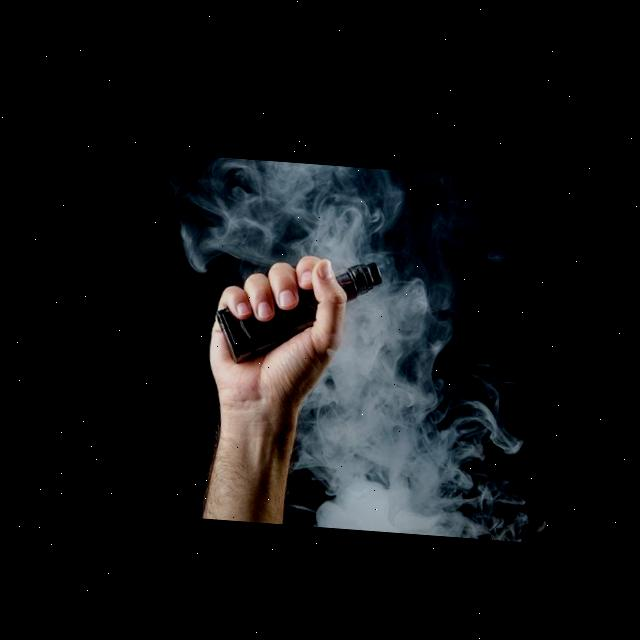vape: (215, 246, 391, 372)
